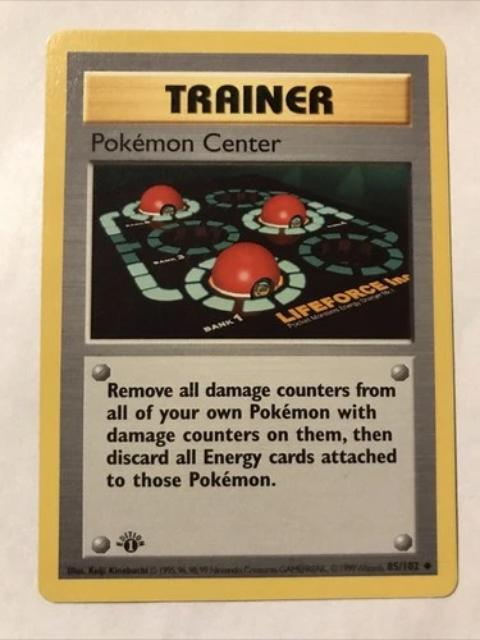Card: (31, 24, 465, 607)
Name: (80, 125, 289, 160)
